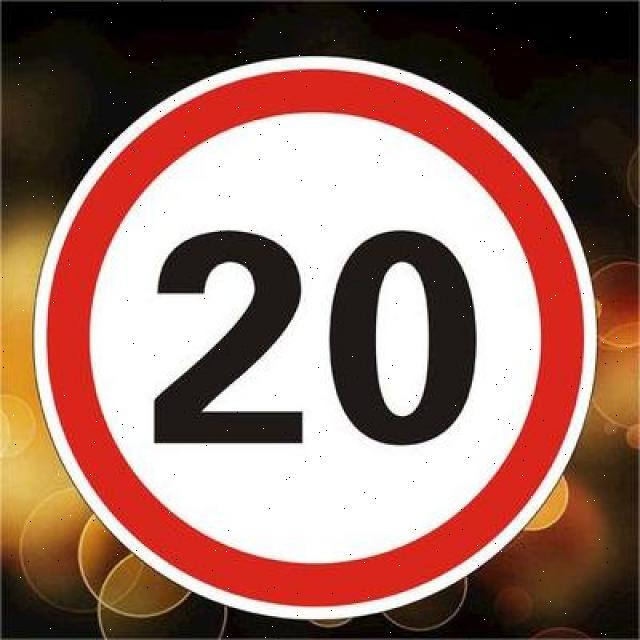speed limit 20: (33, 57, 598, 619)
